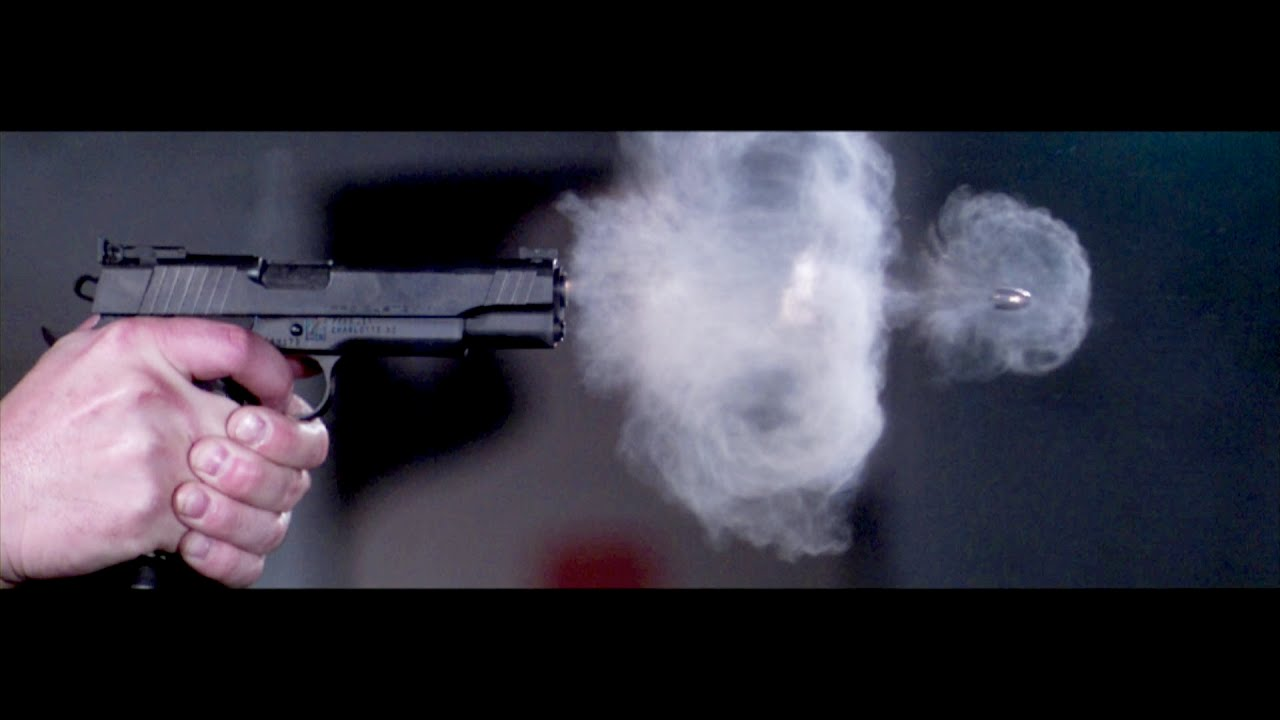Gun: (188, 219, 562, 378)
